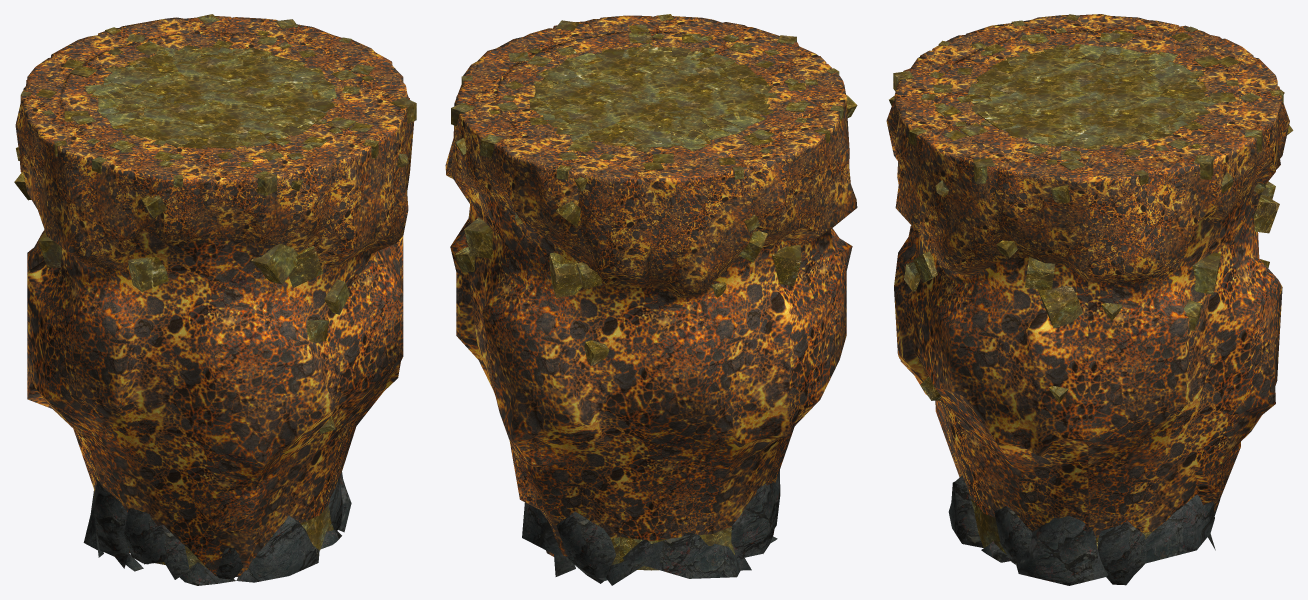
3 renders of one model, left to right at view 1: azimuth 30°, elevation 25°; view 2: azimuth 150°, elevation 25°; view 3: azimuth 270°, elevation 25°, orthographic.
Visible parts, largest first — view 1: w1fz-titan_boss; view 2: w1fz-titan_boss; view 3: w1fz-titan_boss.
Part boxes in pixels (x1=…): w1fz-titan_boss: x1=14, y1=14, x2=416, y2=585; w1fz-titan_boss: x1=445, y1=14, x2=857, y2=585; w1fz-titan_boss: x1=886, y1=14, x2=1293, y2=585.
Bounding box in the file's own units: 41.69 × 49.99 × 41.89.
Materials: 4 (4 with a texture image).
